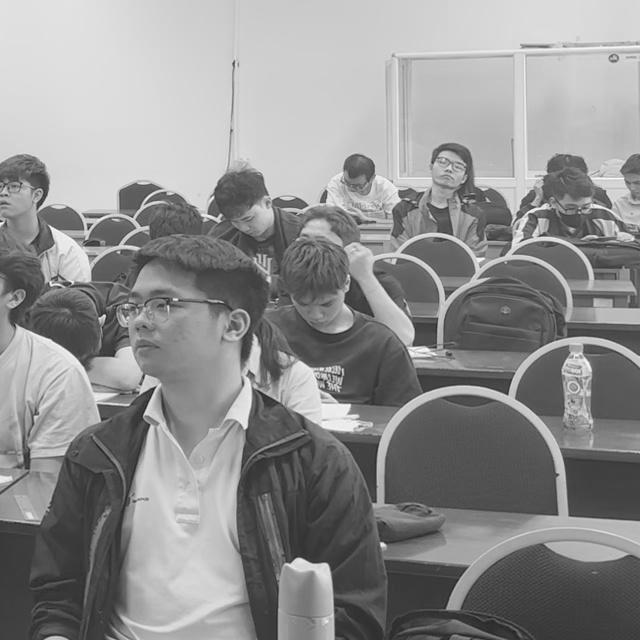Looking away: (297, 294, 343, 328), (233, 212, 268, 236), (560, 200, 591, 226)
Looking forward: (122, 283, 195, 362), (0, 180, 28, 216), (438, 155, 462, 187)
